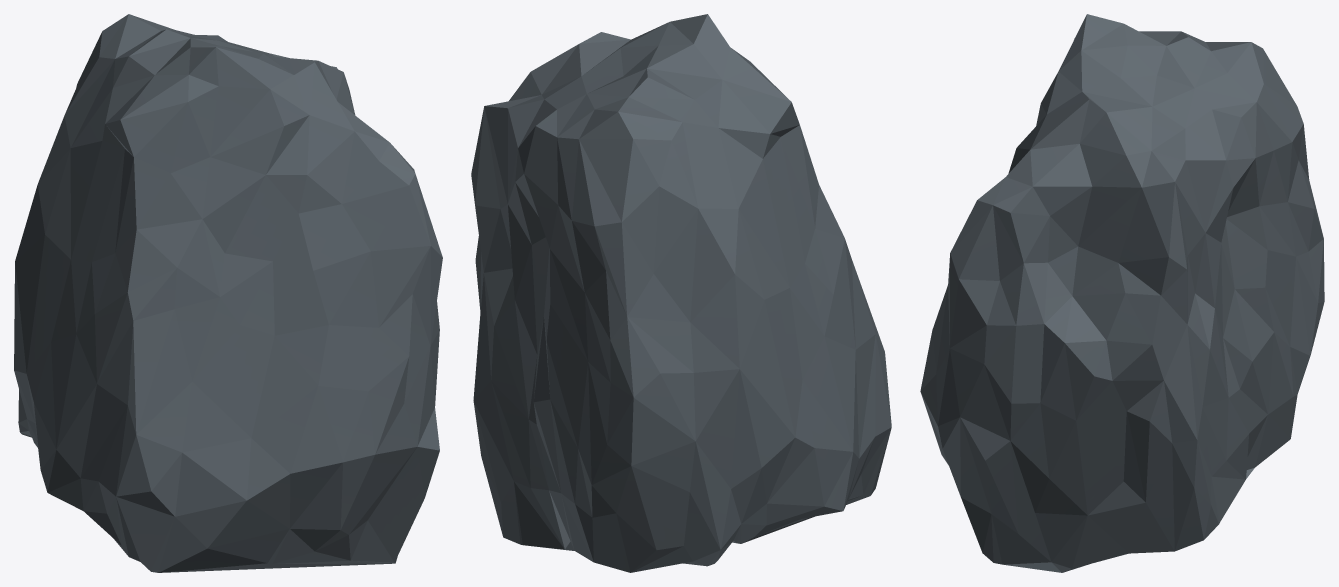
Rendered from rock2.fbx.
3 renders of one model, left to right at view 1: azimuth 30°, elevation 25°; view 2: azimuth 150°, elevation 25°; view 3: azimuth 270°, elevation 25°, orthographic. The views are drawn at different scales.
Visible parts, largest first — view 1: Rock_Large_Stone_05; view 2: Rock_Large_Stone_05; view 3: Rock_Large_Stone_05.
Boxes of the visible parts, x1=… form: Rock_Large_Stone_05: x1=14, y1=14, x2=442, y2=572; Rock_Large_Stone_05: x1=471, y1=14, x2=891, y2=572; Rock_Large_Stone_05: x1=920, y1=14, x2=1324, y2=572.
Size of the model in its own units: 1191 by 1722 by 1269.
Materials: 1 (1 with a texture image).
